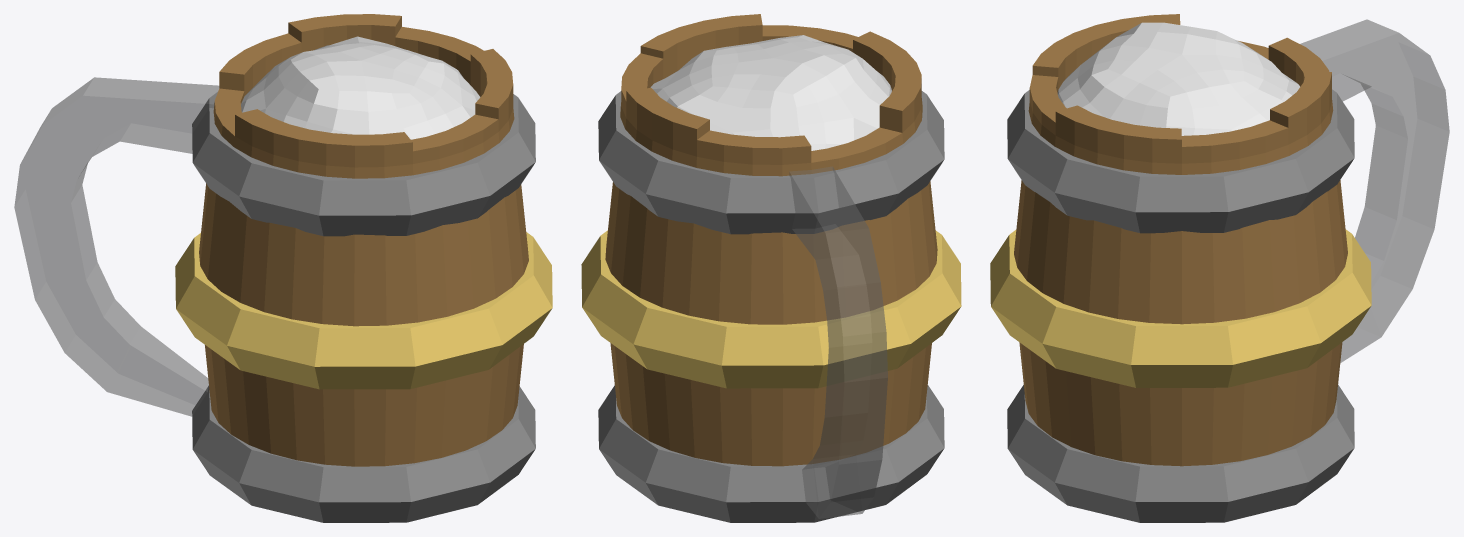
Rendered from BeerMug.fbx.
The picture shows the model from 3 angles, left to right: view 1: azimuth 30°, elevation 25°; view 2: azimuth 150°, elevation 25°; view 3: azimuth 270°, elevation 25°; orthographic projection.
Parts seen in each view (by area): view 1: Cubo.003, Icosfera.003; view 2: Cubo.003, Icosfera.003; view 3: Cubo.003, Icosfera.003.
Boxes of the visible parts, x1,y1,x2,y2 form: Cubo.003: (14,14,552,522); Icosfera.003: (241,36,480,139); Cubo.003: (581,14,961,522); Icosfera.003: (650,35,891,150); Cubo.003: (990,14,1449,522); Icosfera.003: (1057,22,1299,135).
Size of the model in its own units: 61.18 by 59.28 by 60.8.
